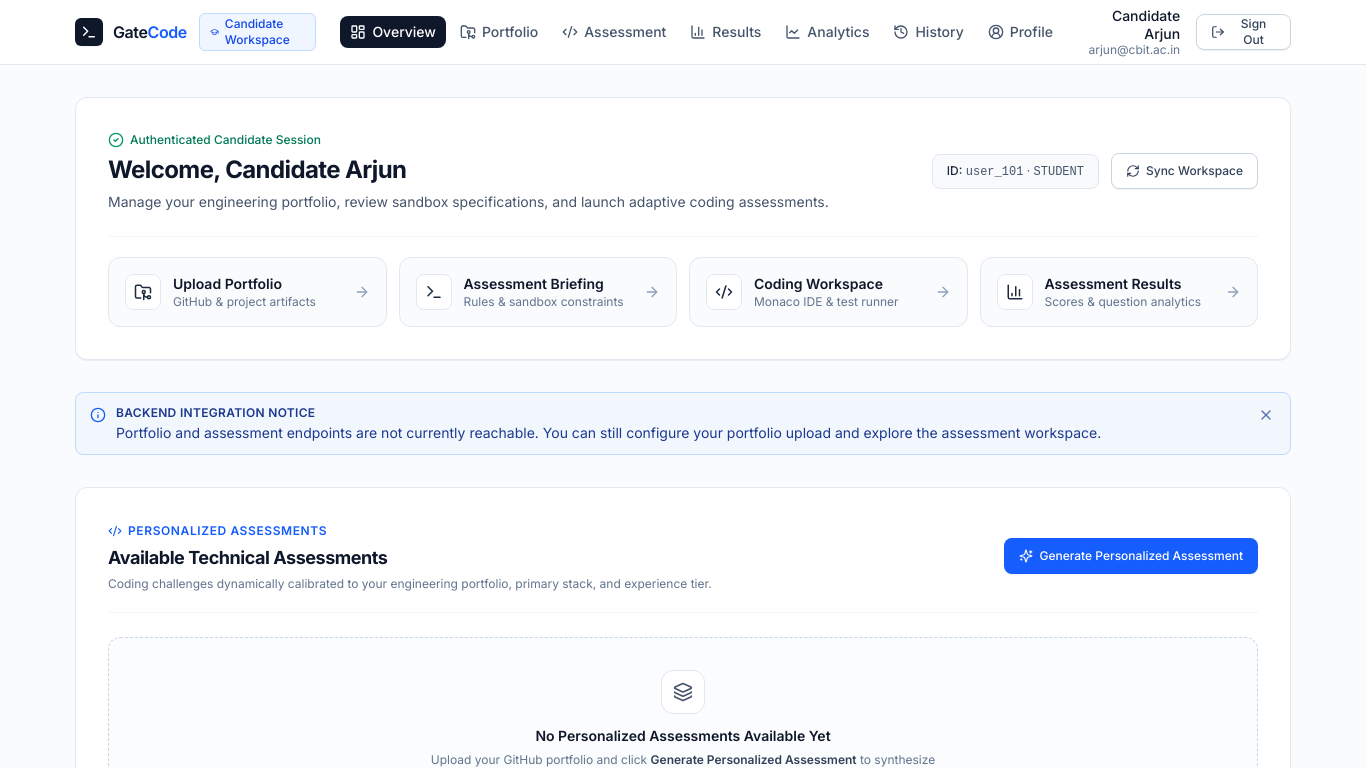
it: GateCode Frontend Authentication Module › clears session and redirects to landing page on sign out
Click the button "Sign Out" at (1244, 32), box [1196, 14, 1291, 50]
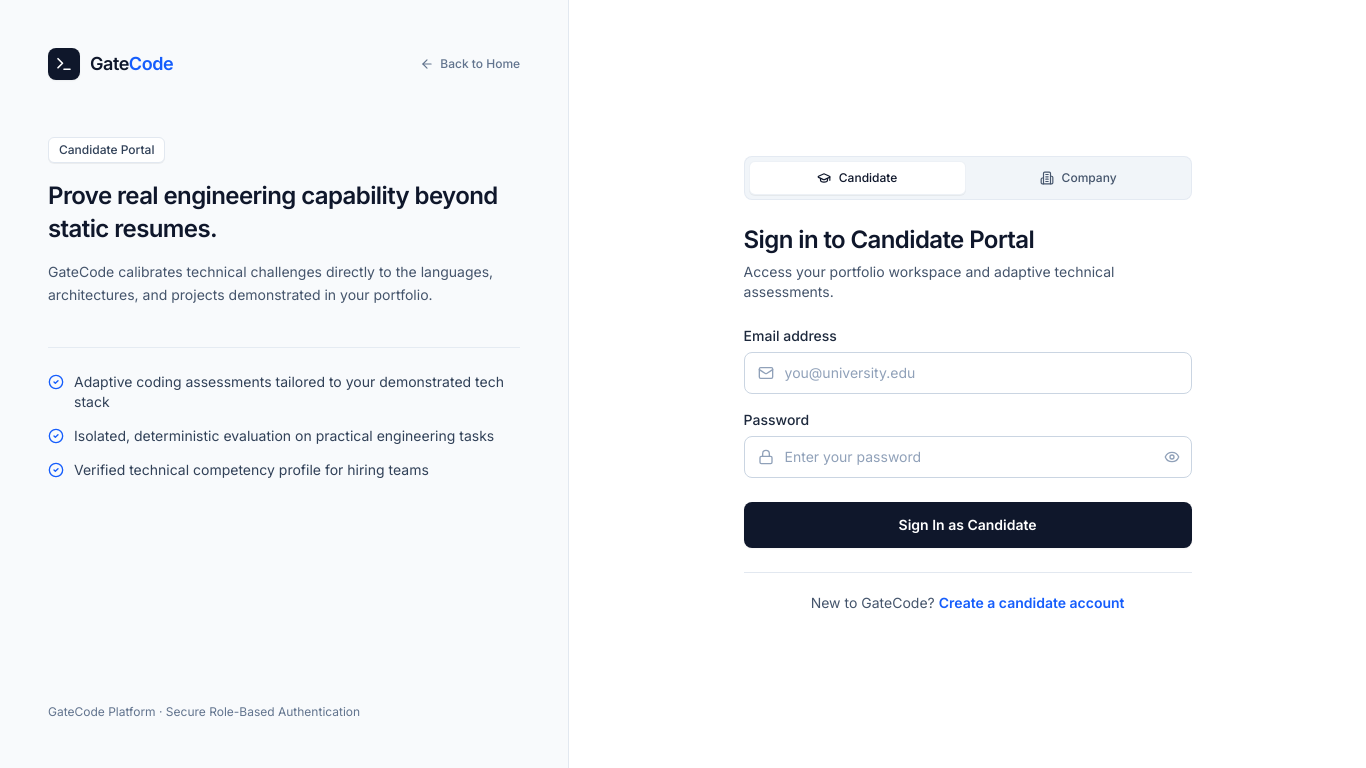
Expected: the heading "Sign in to Candidate Portal" is shown, [744, 224, 1034, 254]
